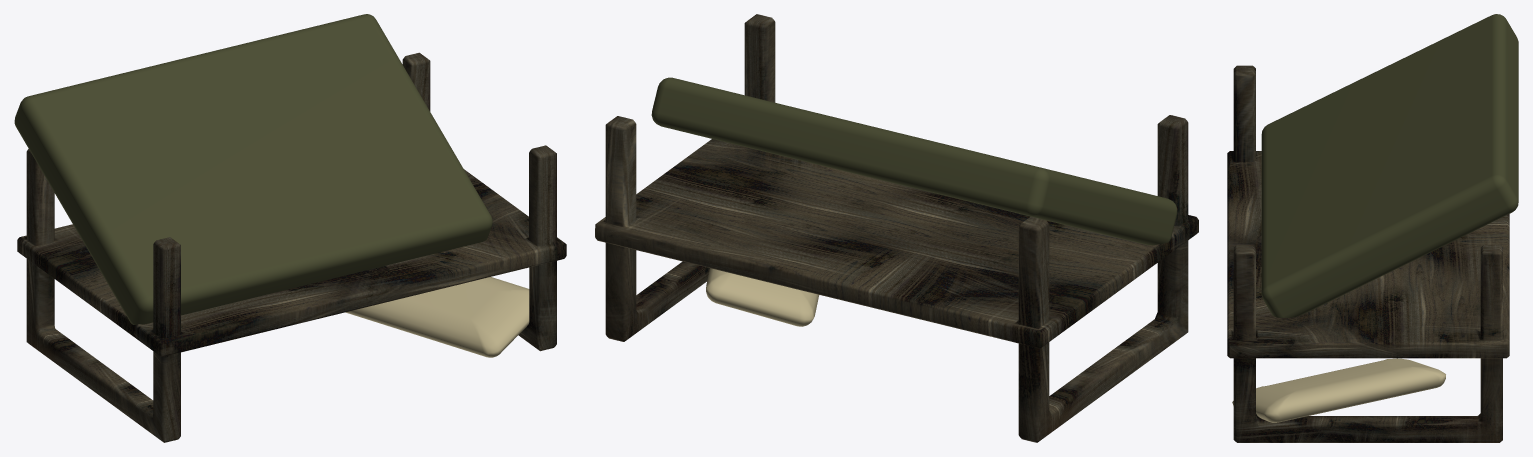
The model's file is BedServant4.fbx.
3 views of the same model, side by side, from view 1: azimuth 30°, elevation 25°; view 2: azimuth 150°, elevation 25°; view 3: azimuth 270°, elevation 25° (orthographic). The views are drawn at different scales.
Parts seen in each view (by area): view 1: Mattress, Frame, Pillow3; view 2: Frame, Mattress, Pillow3; view 3: Mattress, Frame, Pillow3.
Part boxes in pixels (x1,y1,x2,y2): Mattress: (14, 14, 492, 324); Frame: (17, 52, 566, 442); Pillow3: (345, 277, 529, 357); Frame: (595, 14, 1198, 442); Mattress: (651, 77, 1177, 245); Pillow3: (706, 268, 819, 326); Mattress: (1261, 14, 1518, 317); Frame: (1227, 65, 1509, 442); Pillow3: (1232, 358, 1445, 422).
Bounding box in the file's own units: 3.59 × 2.08 × 2.27.
